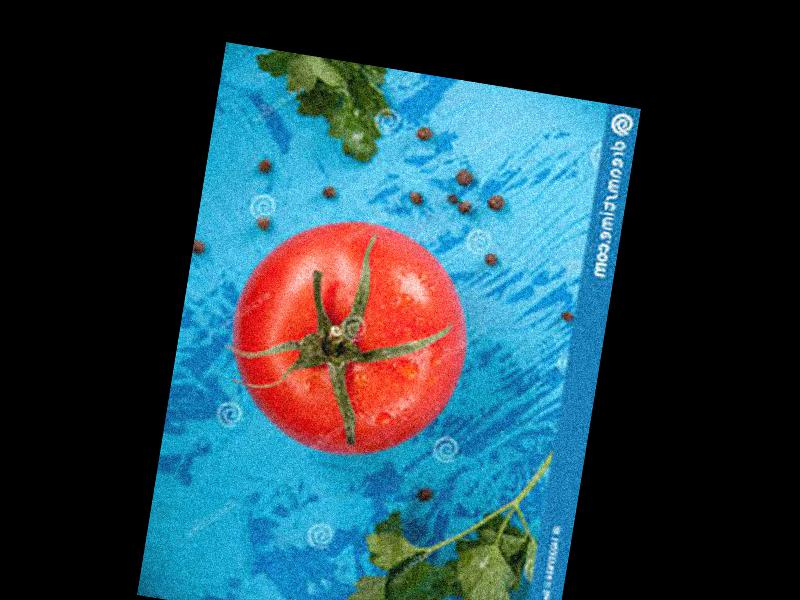Tomato: (217, 205, 483, 471)
